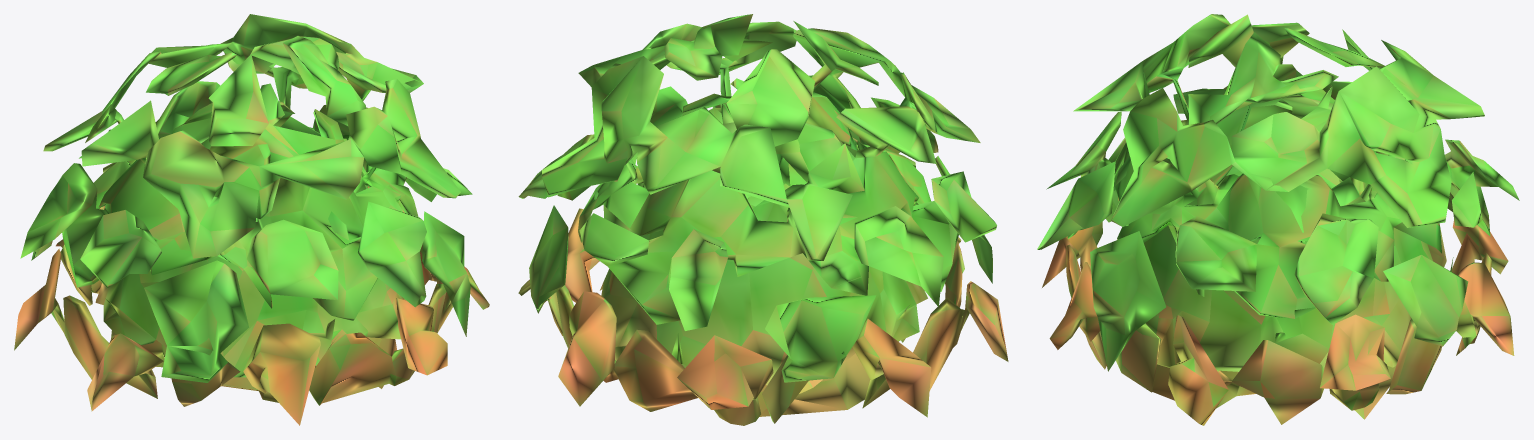
File: bush.glb
3 views of the same model, side by side, from view 1: azimuth 30°, elevation 25°; view 2: azimuth 150°, elevation 25°; view 3: azimuth 270°, elevation 25° (orthographic). The views are drawn at different scales.
Size of the model in its own units: 1.88 by 1.49 by 1.88.
1 material, 1 textured.
